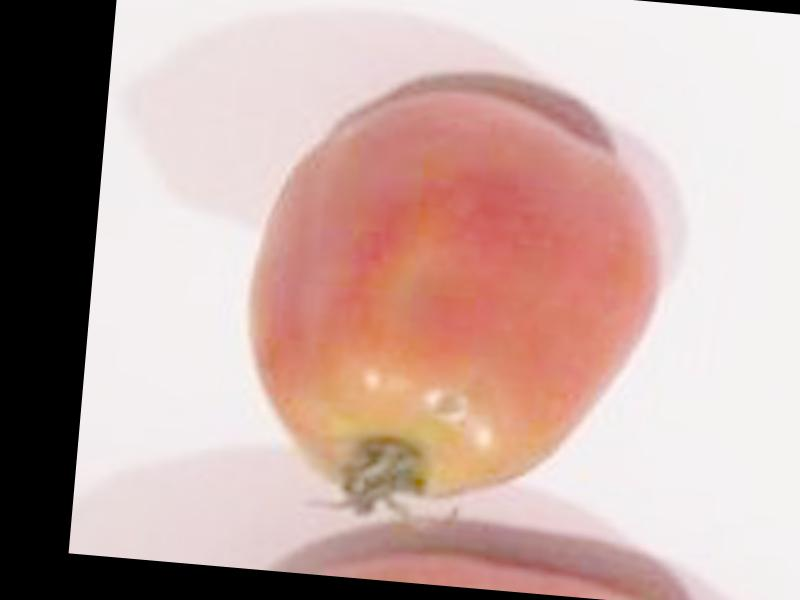Tomato: (235, 84, 672, 522)
